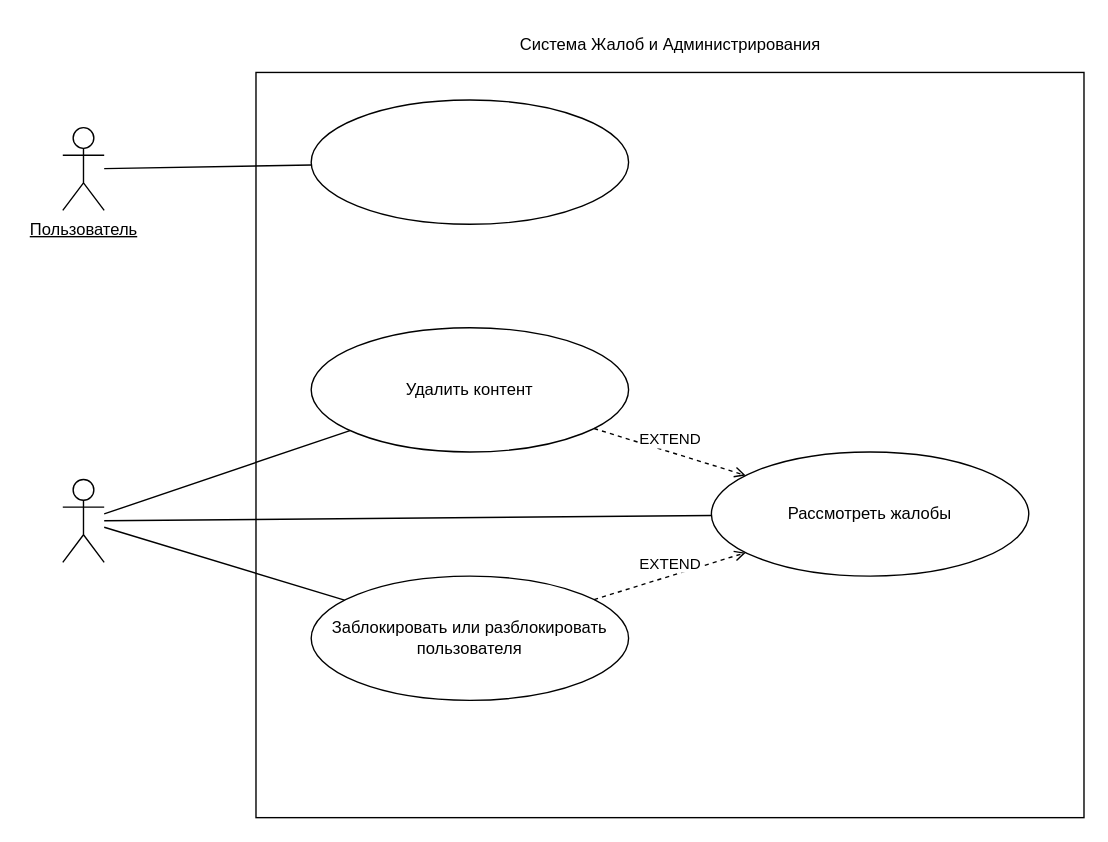
The diagram is 1108 pixels wide and 842 high, and some of its shapes have lost their labels. Each missing label, with the centre of its shape:
"Администратор" belongs at [82,520].
"Пожаловаться на контент" belongs at [469,161].
